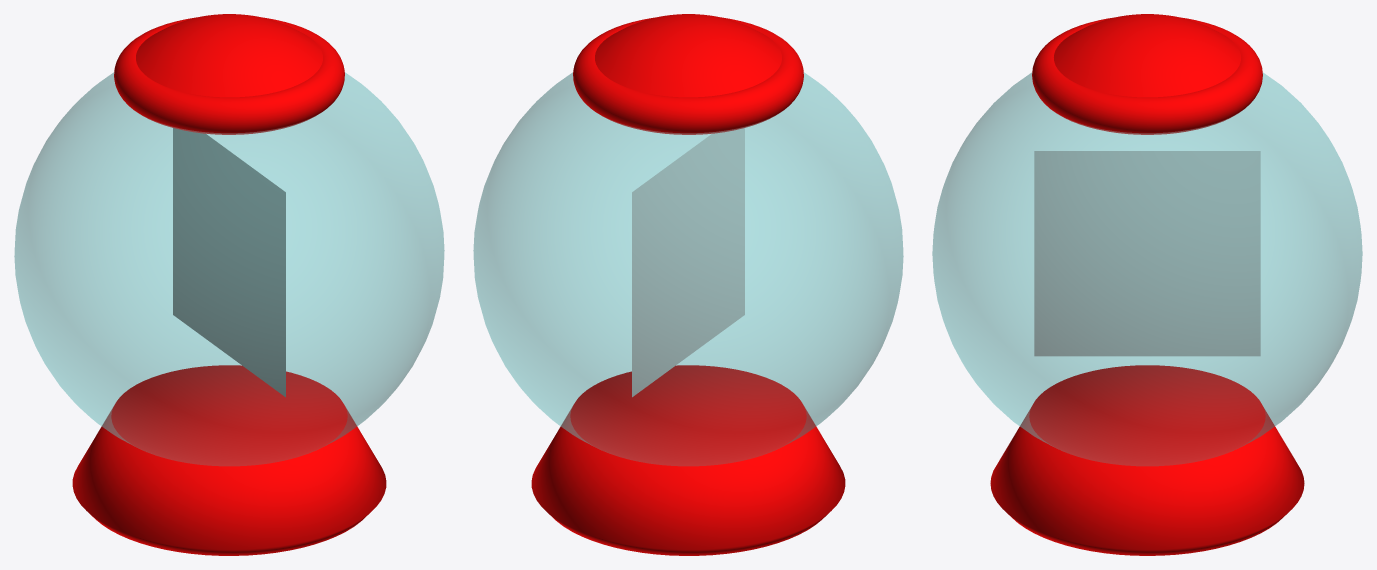
Rendered from ItemCapsule_Ground.fbx.
3 views of the same model, side by side, from view 1: azimuth 30°, elevation 25°; view 2: azimuth 150°, elevation 25°; view 3: azimuth 270°, elevation 25° (orthographic).
Visible parts, largest first — view 1: Main, Foot, Icon, Cap1; view 2: Main, Foot, Icon, Cap1; view 3: Main, Icon, Foot, Cap1.
Boxes of the visible parts, x1,y1,x2,y2 form: Main: (14,72,444,465); Foot: (72,365,386,555); Icon: (173,128,285,397); Cap1: (114,14,344,134); Main: (473,72,903,465); Foot: (531,365,845,555); Icon: (632,128,744,397); Cap1: (573,14,803,134); Main: (932,72,1362,465); Icon: (1034,151,1260,356); Foot: (990,365,1304,555); Cap1: (1032,14,1262,134).
Size of the model in its own units: 380 by 454 by 380.
